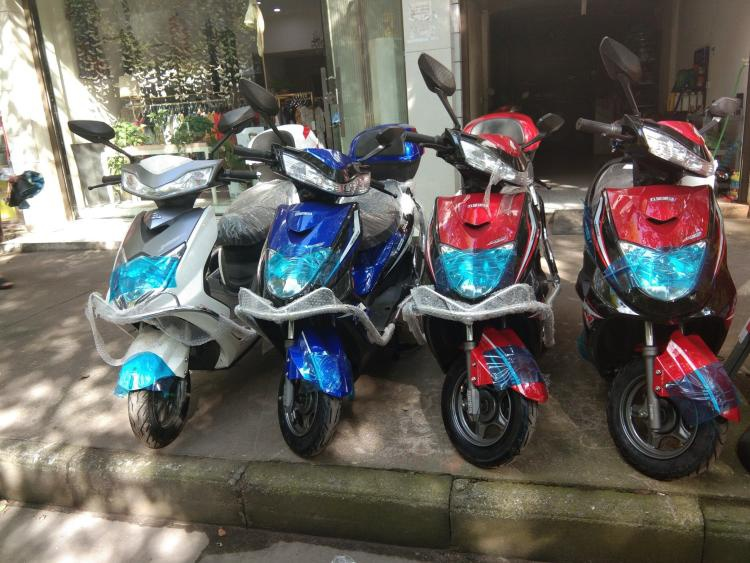non-vehicle: (82, 120, 307, 451), (577, 95, 736, 485), (241, 122, 422, 457), (418, 106, 576, 468)
